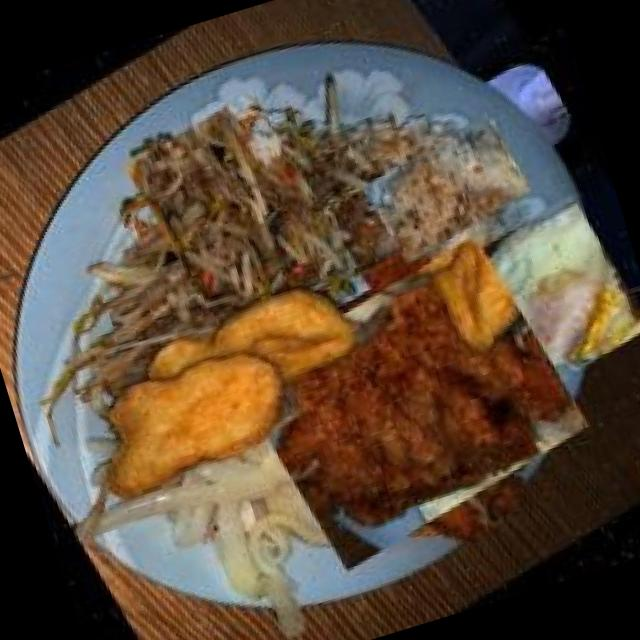chicken_nuggets: (46, 250, 397, 526)
fried_chicken: (220, 212, 601, 592)
fried_eggs: (435, 182, 640, 412)
mung_bean_sprouts: (104, 84, 390, 370)
rice: (357, 99, 536, 278)
